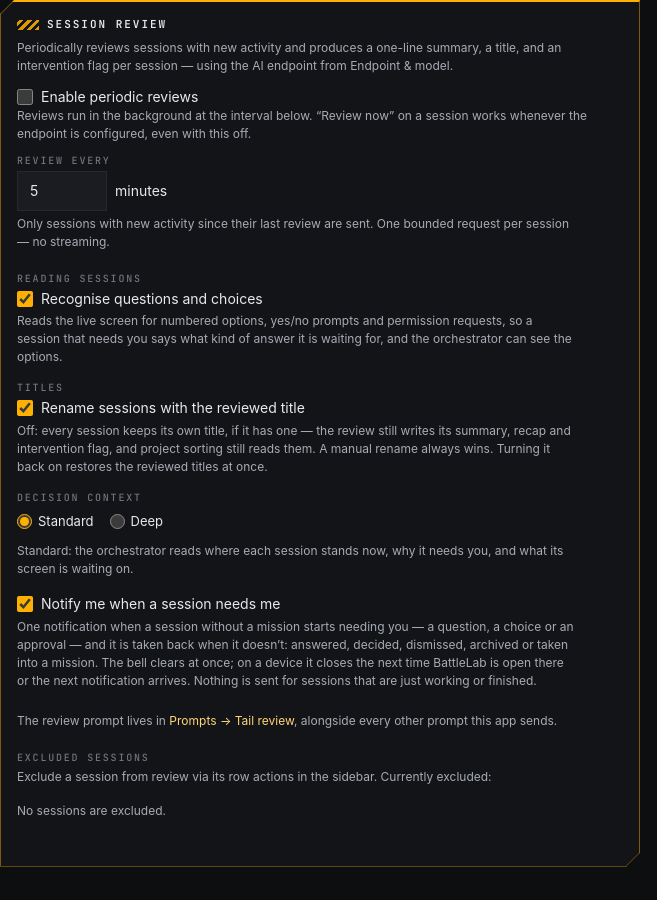
Scenario: a successful save says Saved. on this page
This screenshot has width=657, height=900.
Step 1. Click the checkbox labelled "Enable periodic reviews" → coordinates (25, 97), box [17,89,33,105]
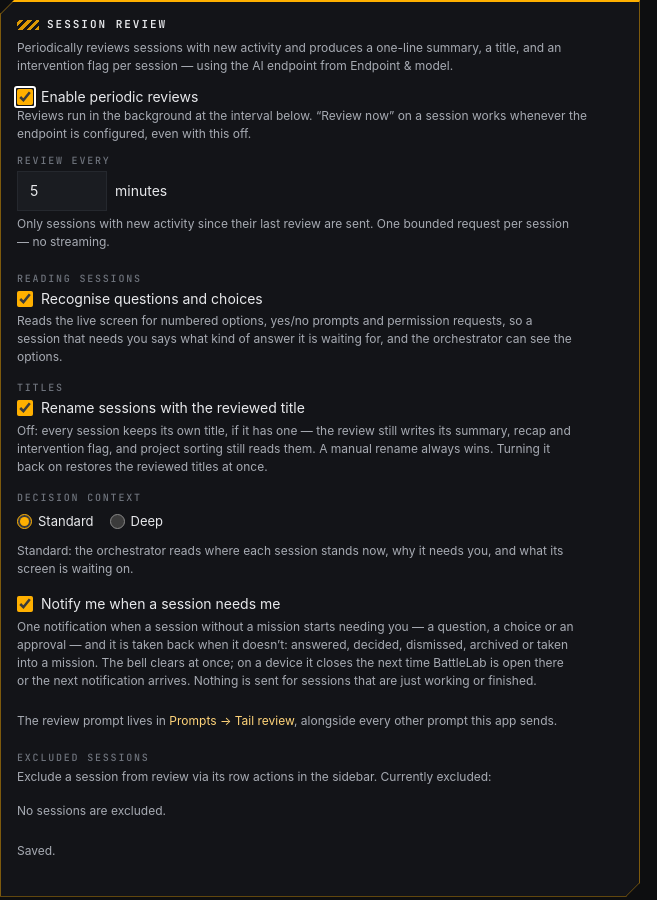
Expected: the text "Saved." is shown, [17,843,56,858]
